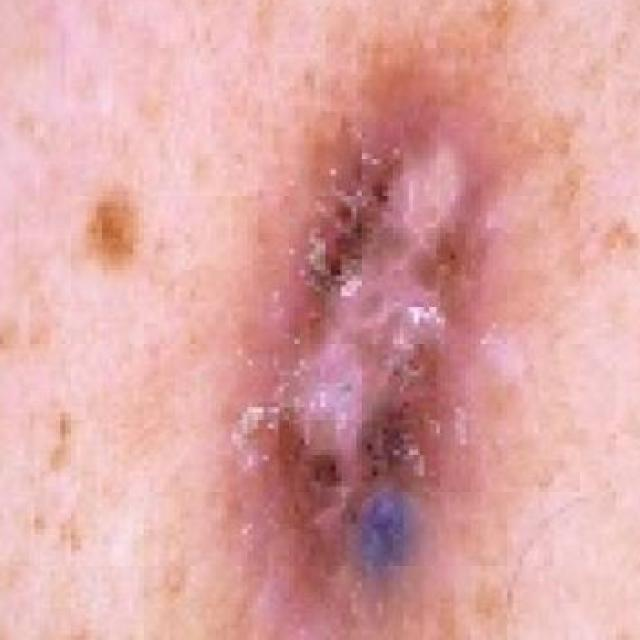DF: (71, 0, 596, 640)
